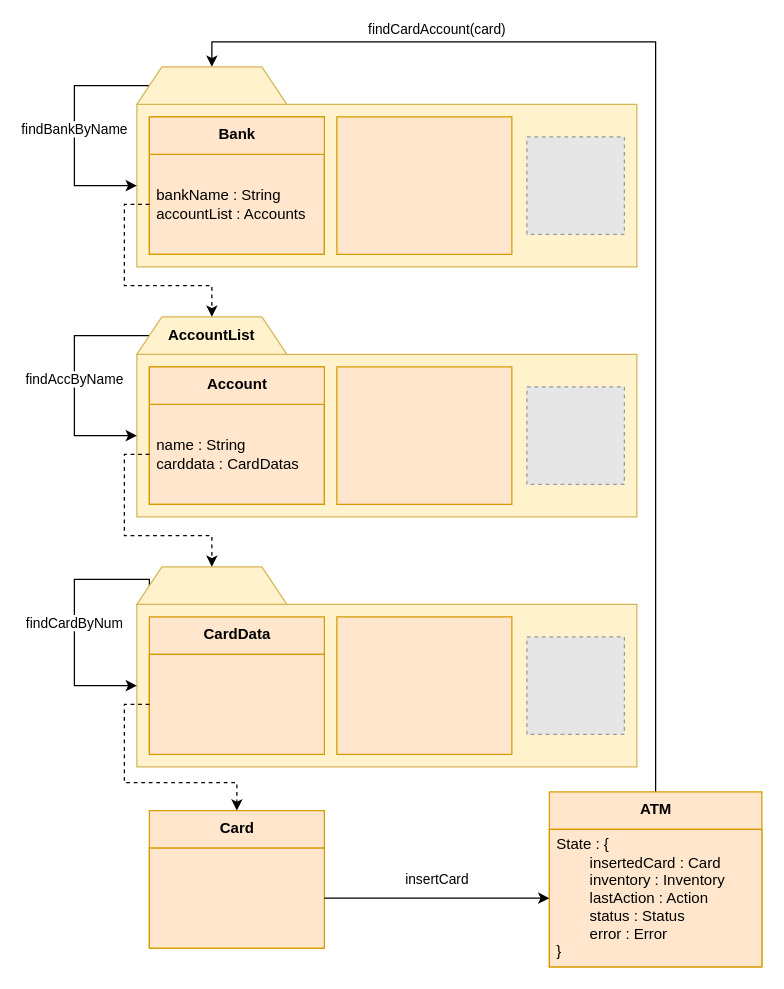
The diagram is 784 pixels wide and 989 high, and some of its shapes have lost their labels. Grey dashed boxes stand in for pictures. The shapes that lost their labels are listed below. From the top down, each one's centre as x and y in pixels, then its label:
At point (211, 85): "BankList".
At point (211, 585): "CardDataList".
At point (236, 703): "card : Card pin : Pin".
At point (236, 897): "number : CarNum owner : String expDate : Date".
